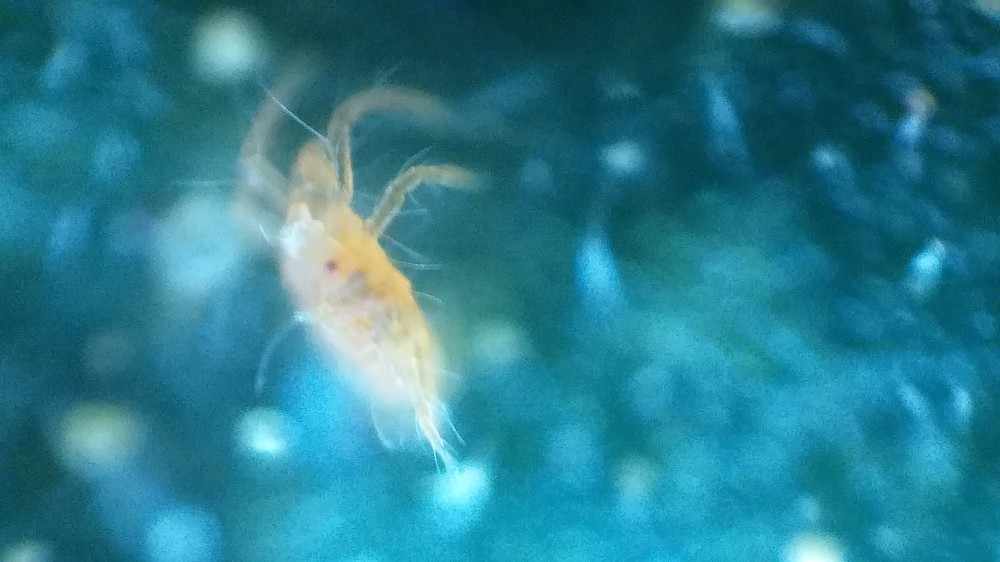Aracnido Rojo: (213, 72, 519, 476)
